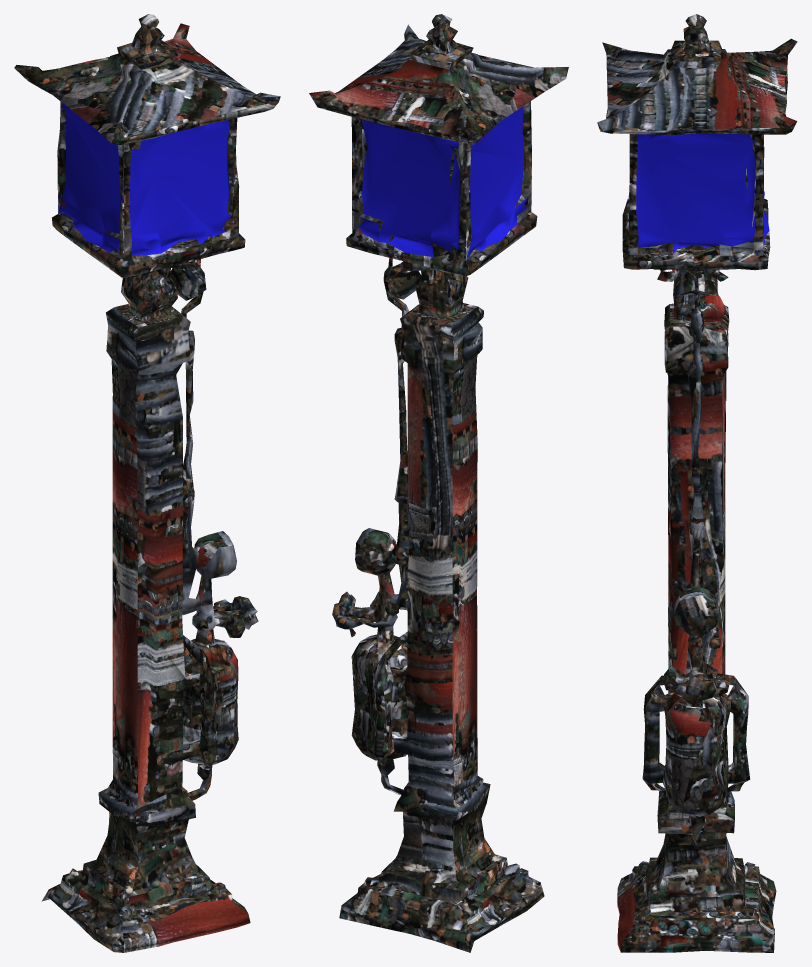
The model's file is chg_StreetLamp2.fbx.
3 views of the same model, side by side, from view 1: azimuth 30°, elevation 25°; view 2: azimuth 150°, elevation 25°; view 3: azimuth 270°, elevation 25° (orthographic).
Parts seen in each view (by area): view 1: texture_mapping; view 2: texture_mapping; view 3: texture_mapping.
Boxes of the visible parts, x1,y1,x2,y2 form: texture_mapping: (14, 14, 280, 952); texture_mapping: (309, 14, 568, 952); texture_mapping: (597, 14, 797, 952).
Bounding box in the file's own units: 22.05 × 100 × 20.03.
